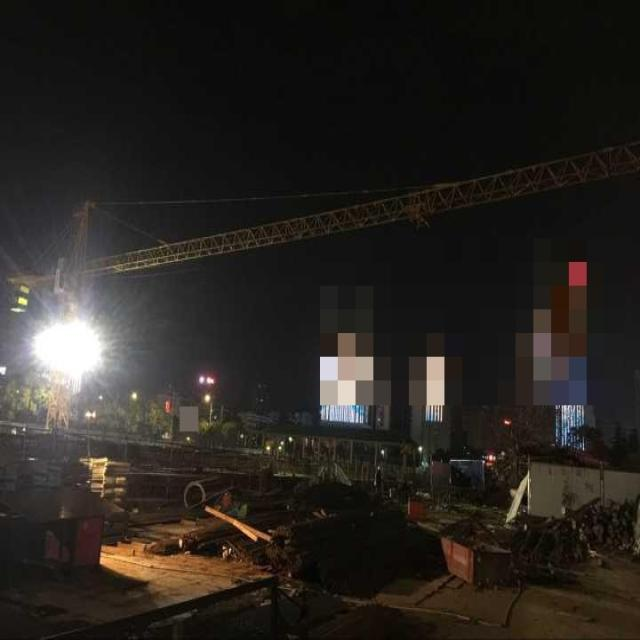crane: (8, 141, 639, 429)
